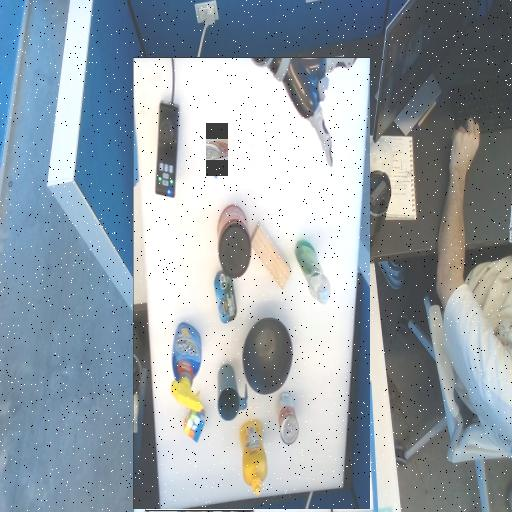bowl: (212, 188, 261, 236)
cleanser: (174, 264, 209, 326)
coffee_can: (253, 310, 286, 342)
jaco: (145, 404, 253, 509)
meat_can: (268, 245, 289, 296)
mug: (257, 147, 286, 202)
mustard_bottle: (238, 73, 263, 146)
rubik: (299, 132, 320, 153)
soup_can: (206, 139, 227, 159)
windex: (302, 157, 333, 244)
wooden_block: (212, 292, 253, 332)
workspace: (134, 58, 370, 509)
